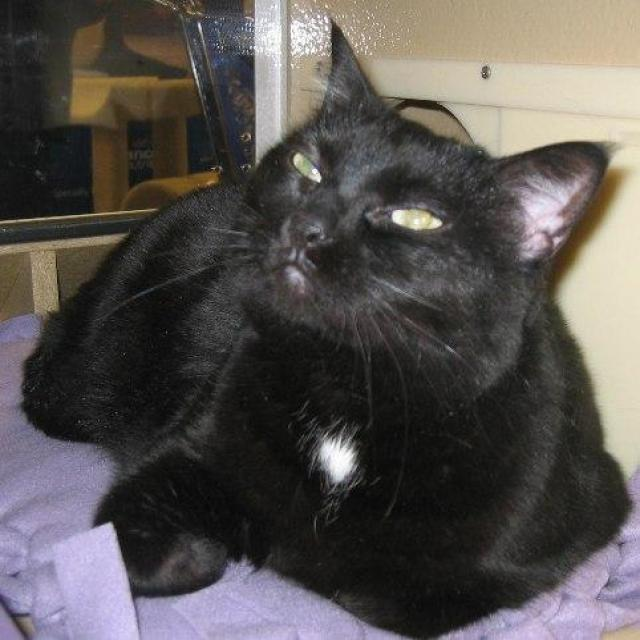Cats: (19, 17, 632, 638)
